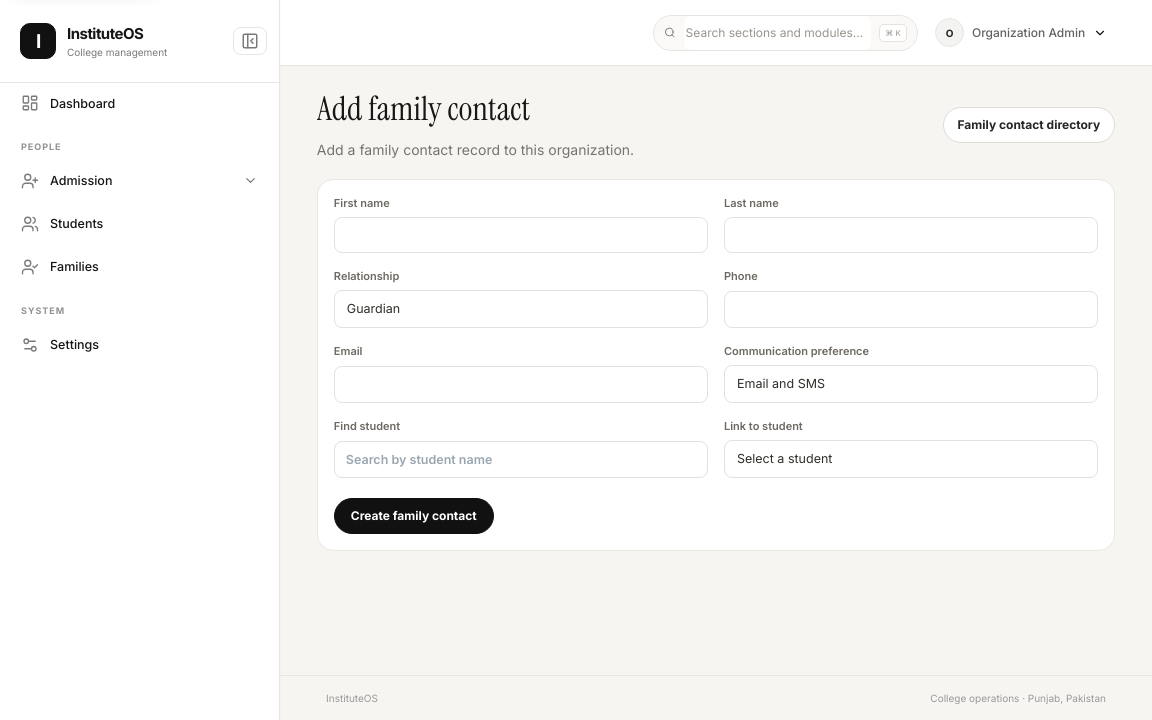
Test: family and parent relationship pages › validates and creates a family contact before opening the returned record
The image size is (1152, 720).
Click the button "Create family contact". click: point(414, 516)
box: [334,498,494,534]
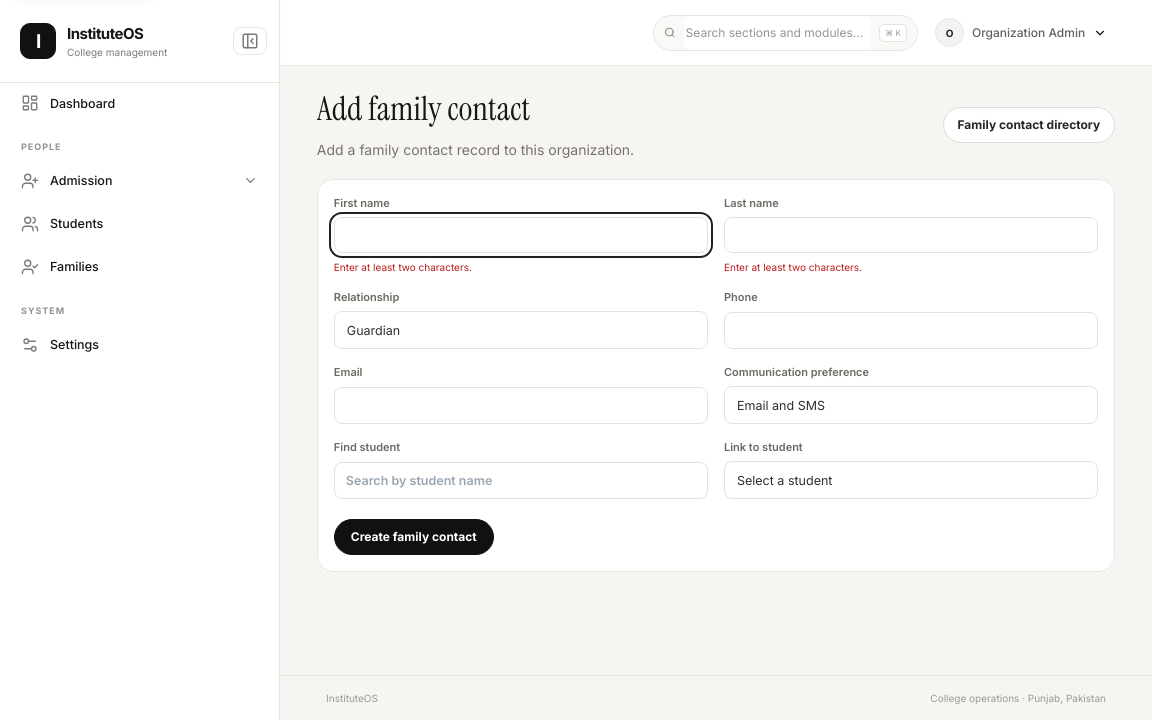
Result: the text "Enter at least two characters." is shown 2 times at [334,261,472,273]; [724,261,862,273]
Type "Leela" into the field labelled "First name". click: point(521, 235)
box: [334,217,708,253]
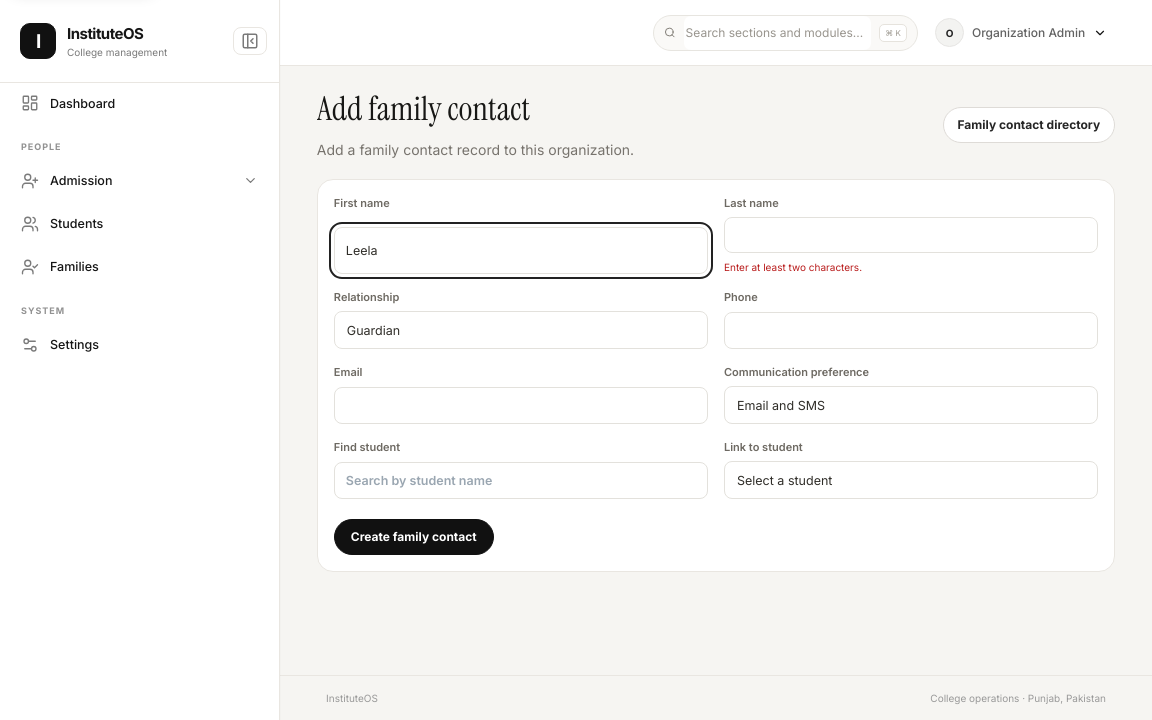
Type "Rao" into the field labelled "Last name". click: point(911, 235)
box: [724,217,1098,253]
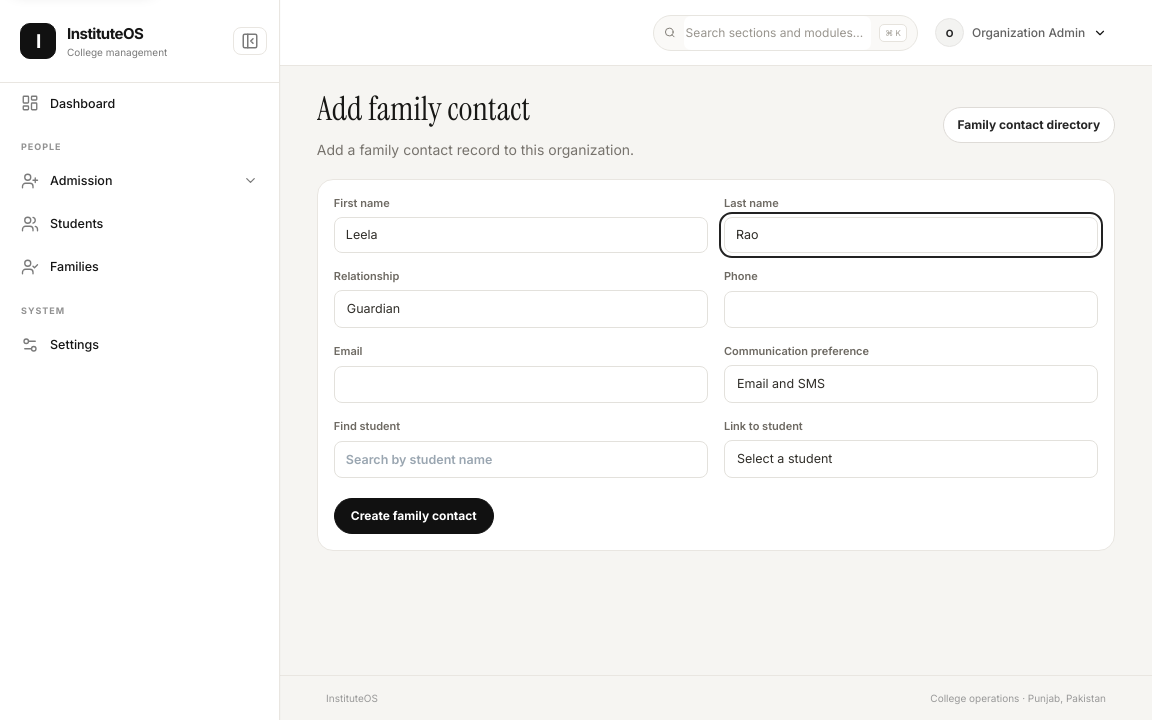
Type "leela@example.test" into the field labelled "Email". click: point(521, 384)
box: [334,366,708,403]
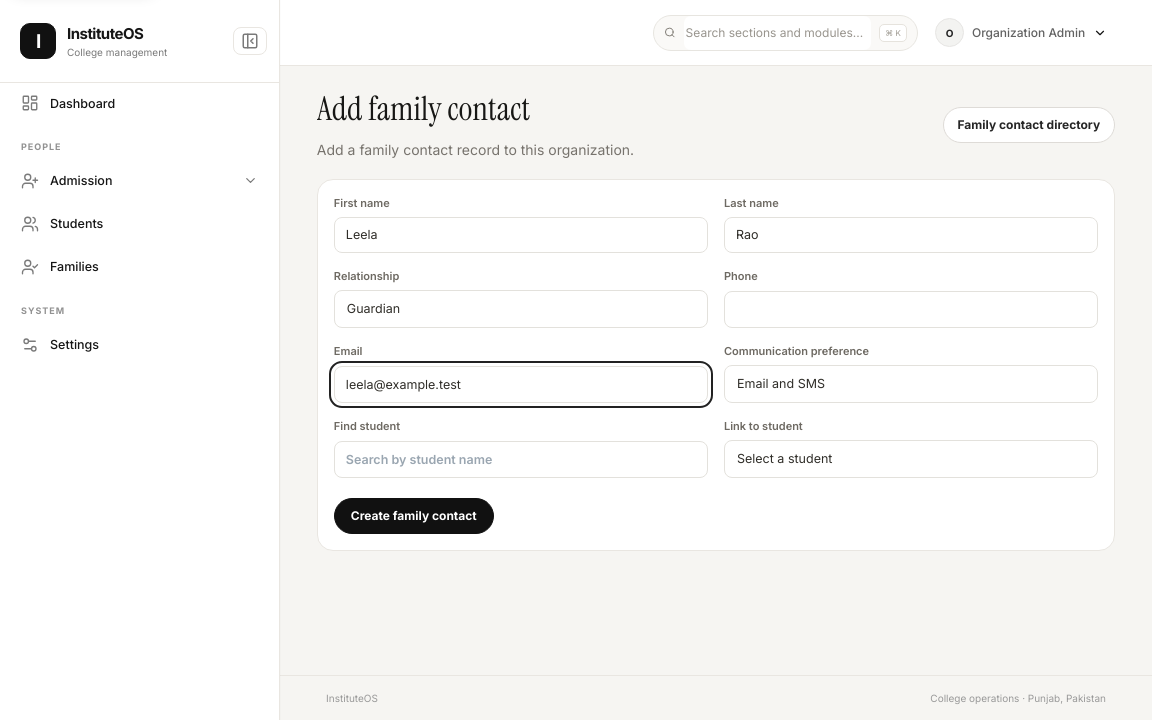
Click the button "Create family contact". click: point(414, 516)
box: [334,498,494,534]
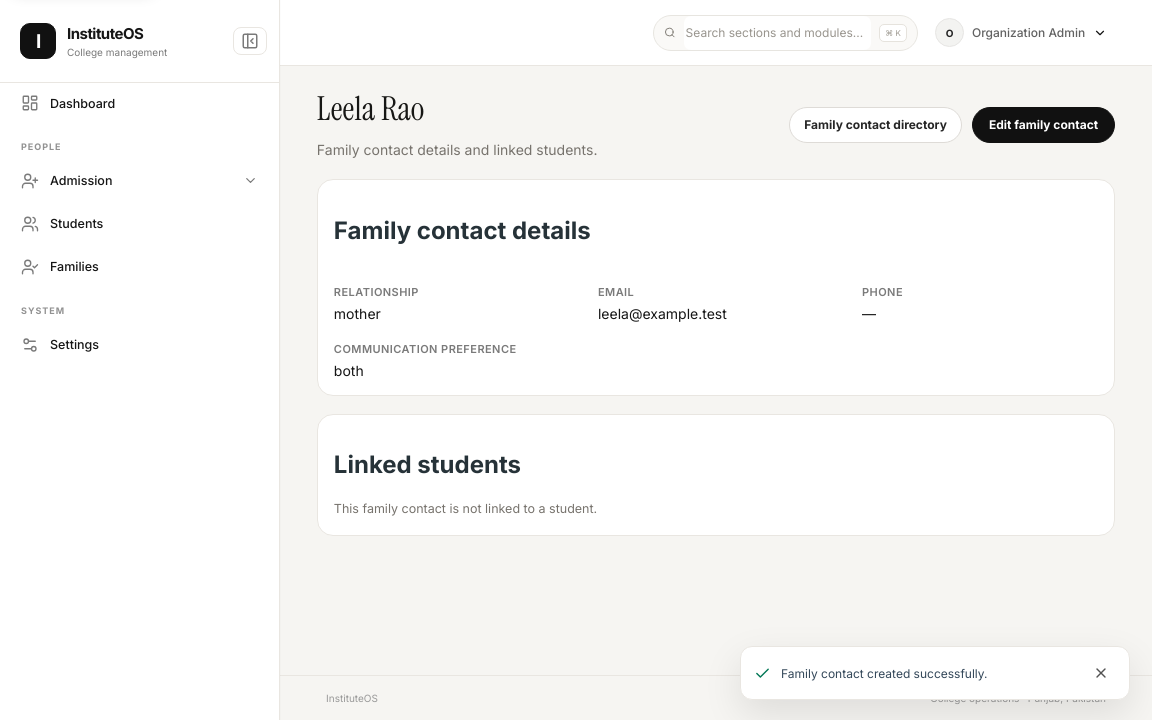
Result: the heading "Leela Rao" is shown at [317,90,424,130]
Result: the message reads "Family contact created successfully." at [781,666,988,680]
